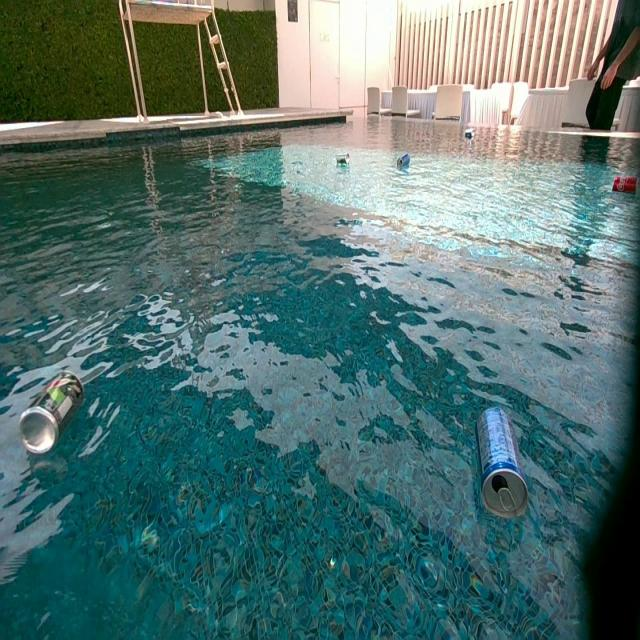Cans: (479, 407, 530, 521), (18, 371, 82, 457), (614, 176, 639, 194), (337, 153, 350, 170), (397, 153, 410, 167), (464, 129, 474, 140)
